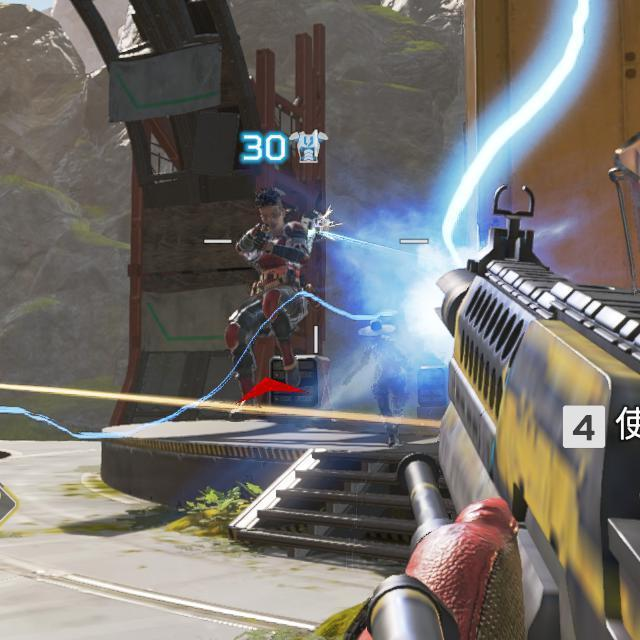avatar: (224, 188, 311, 418), (356, 319, 413, 449)
